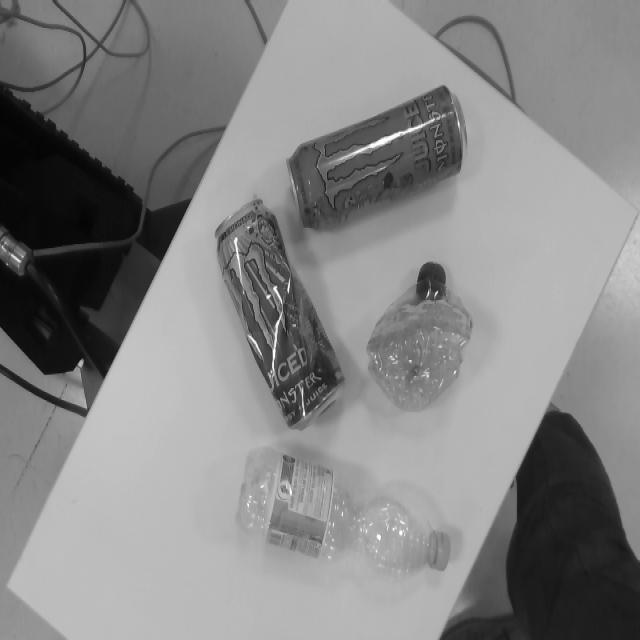aluminum: (211, 196, 348, 436), (288, 83, 470, 231)
plastic: (232, 444, 456, 580), (366, 256, 475, 414)
